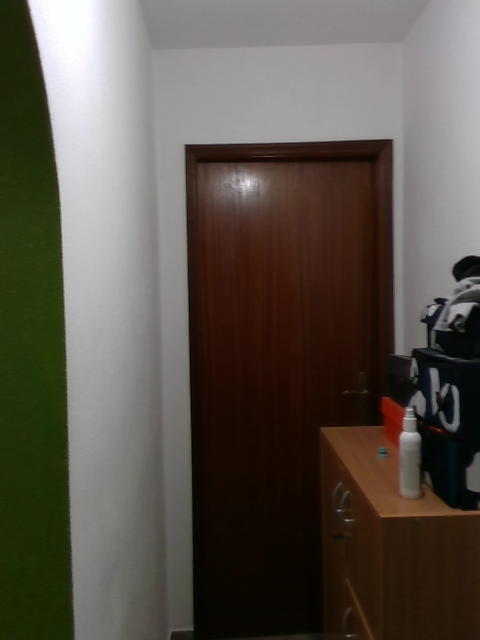closed: (186, 136, 405, 635)
